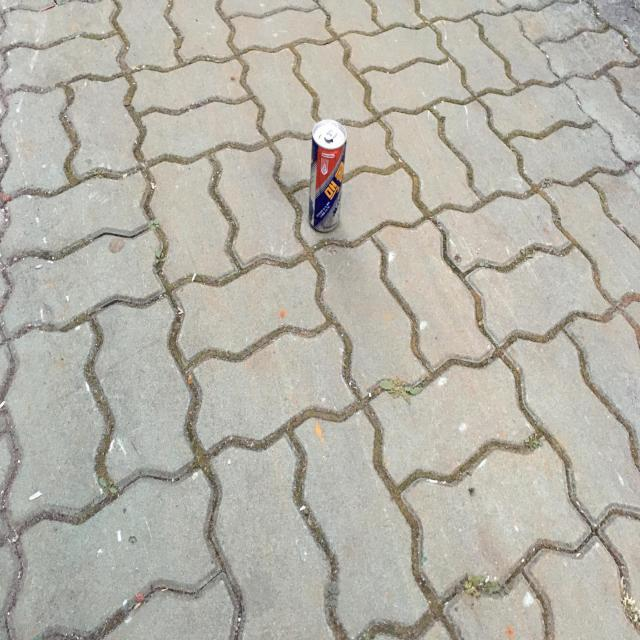can: (309, 118, 347, 231)
